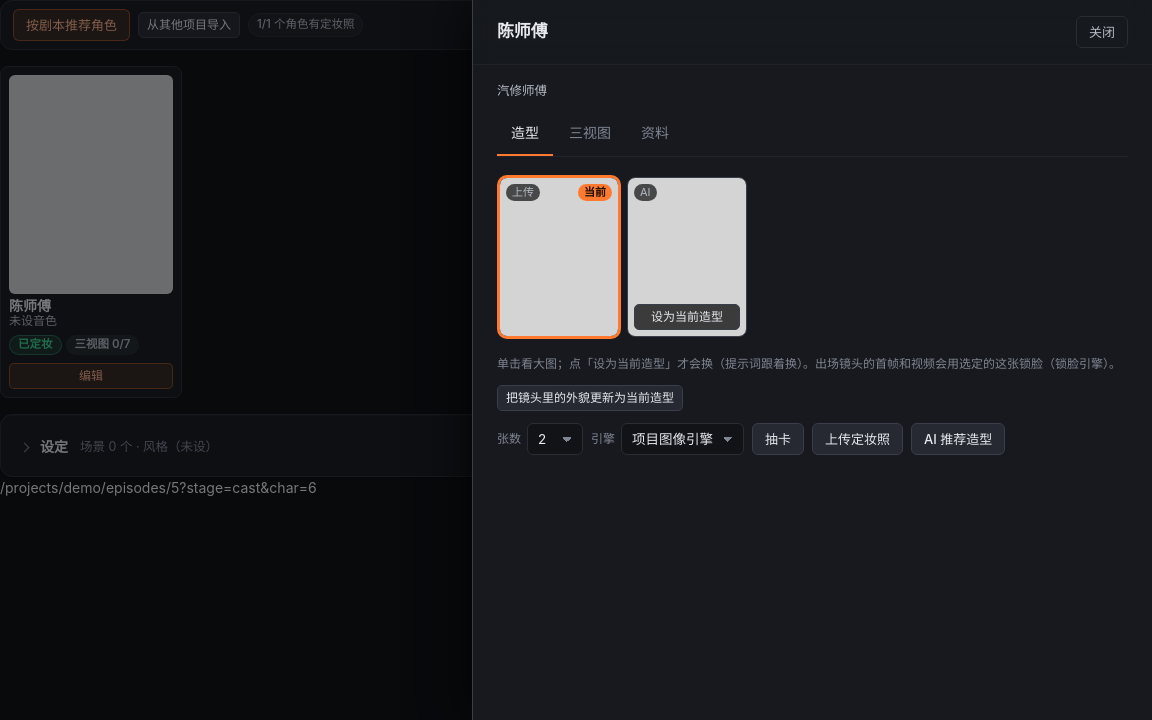
Test case: 角色抽屉 › 三视图全身描述改了没保存：关抽屉同样先问
Click the tab "三视图" at (590, 134), box [555,112,625,156]
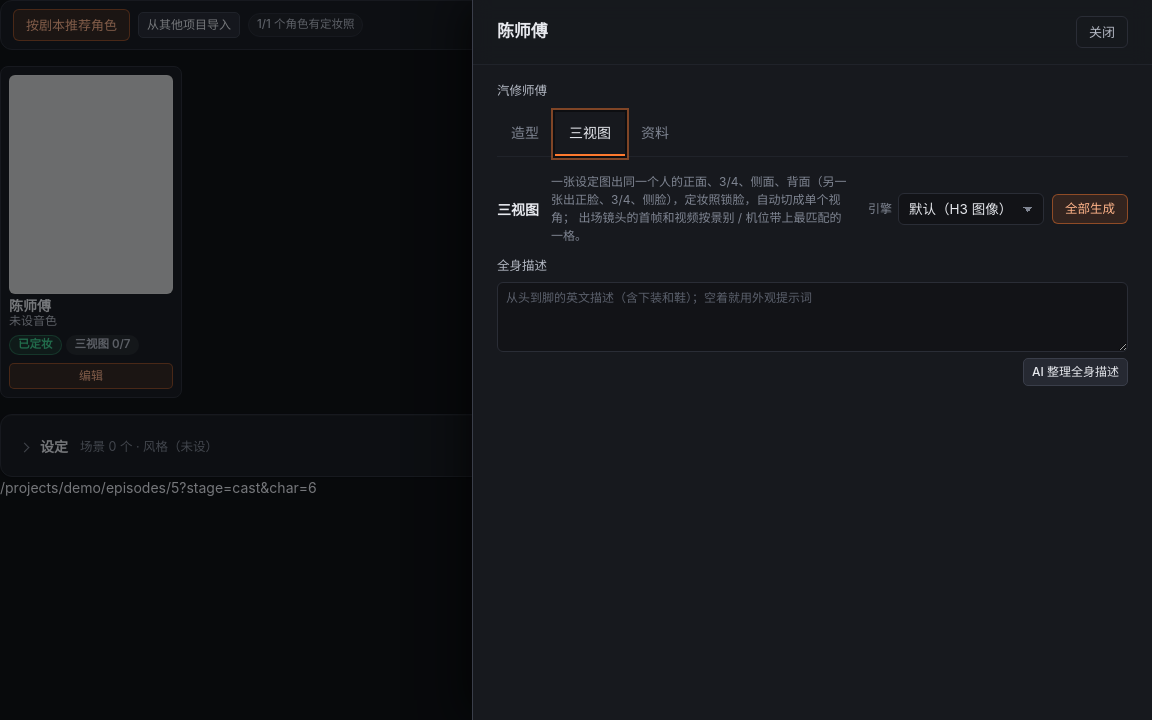
Type "tall" into the text box labelled "全身描述" at (812, 317), box [497,282,1128,352]
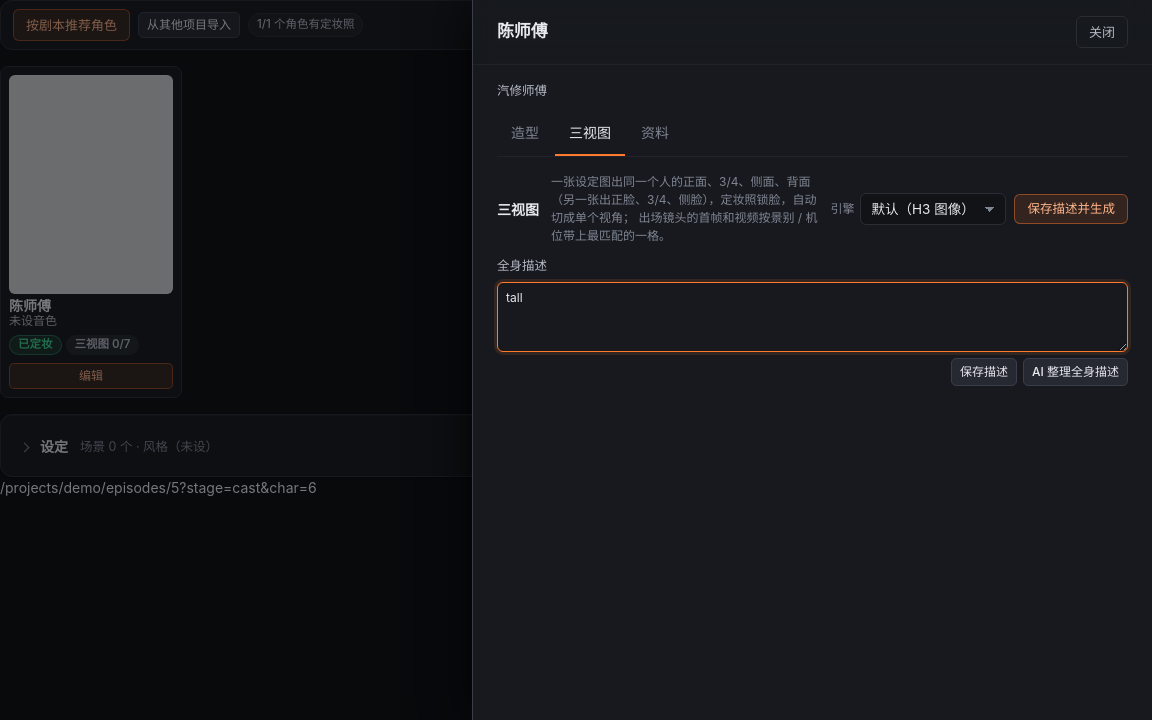
Click the element with test id "drawer-scrim" at (69, 360), box [0,0,1151,719]
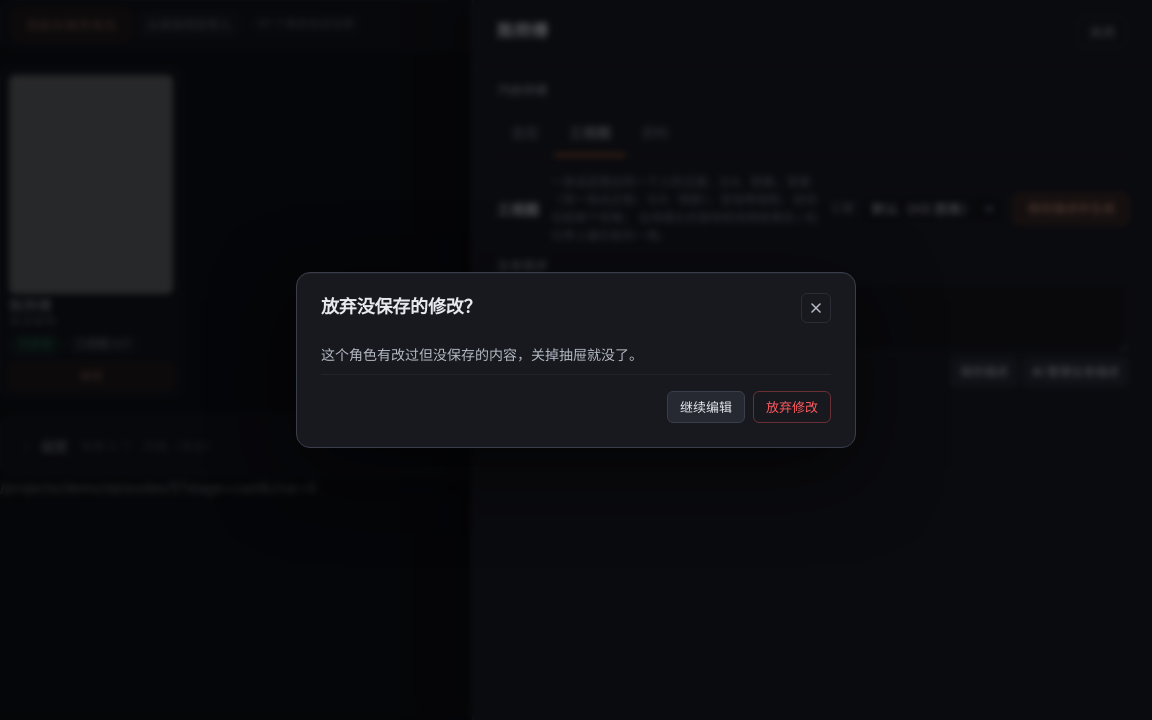
Result: the dialog "放弃没保存的修改？" is shown at [296,272,856,448]
